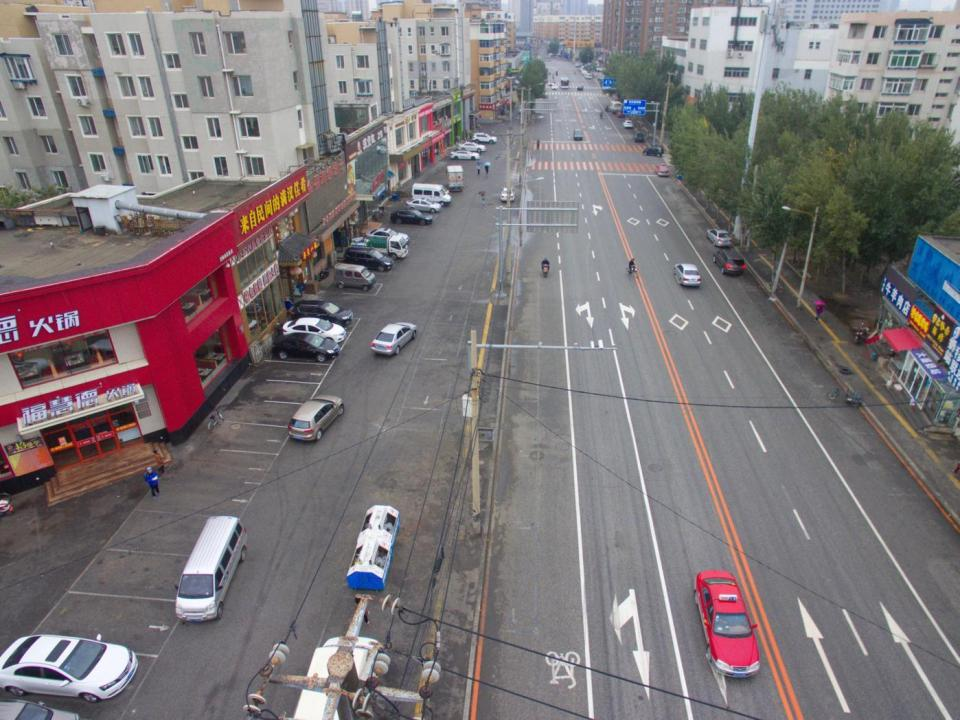bus: (560, 77, 570, 89)
car: (1, 634, 140, 702), (692, 570, 762, 680), (288, 393, 344, 442), (274, 332, 342, 363), (283, 318, 347, 346), (372, 320, 417, 357), (292, 299, 351, 326), (343, 248, 396, 271), (672, 262, 703, 288), (365, 228, 410, 244), (392, 209, 434, 226), (705, 227, 733, 249), (406, 197, 442, 212), (456, 140, 488, 153), (472, 132, 496, 143), (643, 144, 664, 156), (448, 150, 479, 158), (656, 162, 669, 178), (501, 187, 514, 203), (573, 128, 583, 141), (632, 131, 643, 142), (624, 120, 634, 128), (616, 110, 626, 117), (552, 84, 558, 92), (576, 86, 584, 90)
van: (284, 634, 385, 720), (172, 514, 250, 624), (350, 236, 409, 258), (333, 262, 376, 290), (712, 248, 747, 278), (411, 183, 451, 206), (445, 166, 464, 192), (424, 184, 450, 196), (609, 100, 622, 113)
